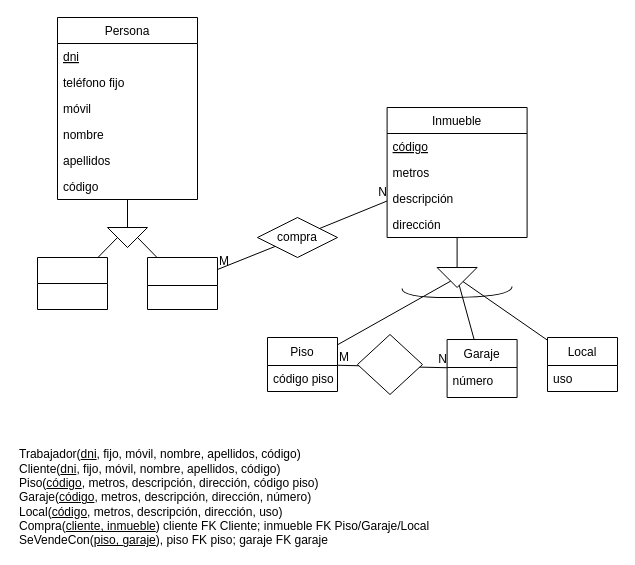
The diagram is 635 pixels wide and 565 high, and some of its shapes have lost their labels. Here are the shapes that lost their labels. From the top down, the centre of each, then its label:
At [72,283]: "Trabajador".
At [182,283]: "Cliente".
At [389,364]: "se vende con".
